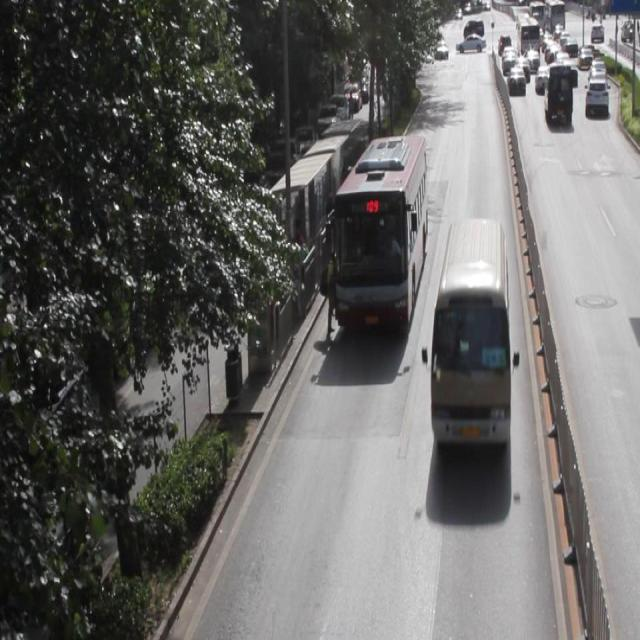truck: (429, 217, 510, 443)
van: (334, 135, 424, 327)
